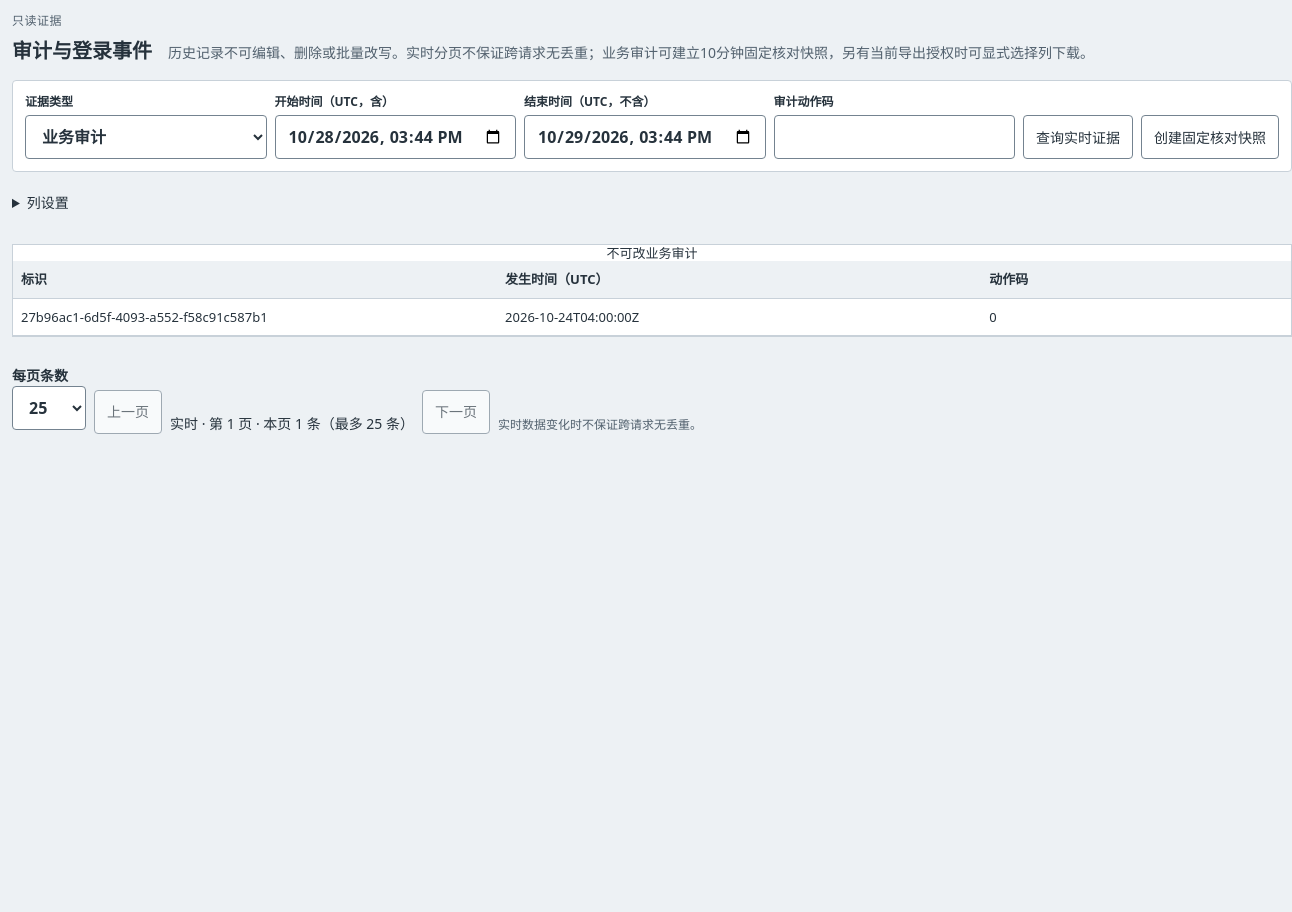
exports only an explicitly created snapshot and checked columns, then revokes its temporary URL
Click the button with test id "create-audit-snapshot" at (1210, 137), box left=1141, top=115, right=1279, bottom=159
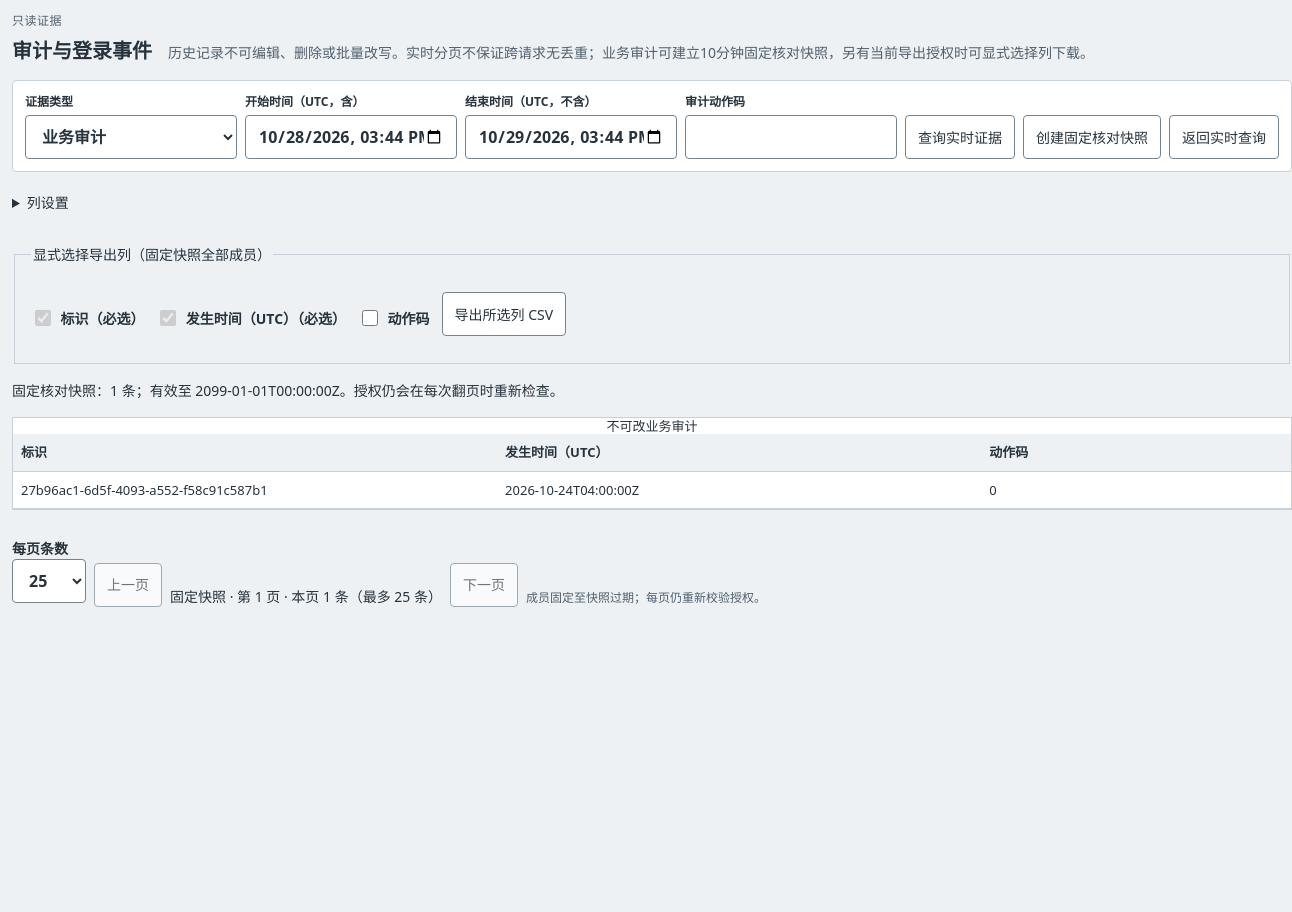
Click the checkbox named "audit-export-column" at (370, 318), box left=362, top=296, right=378, bottom=340
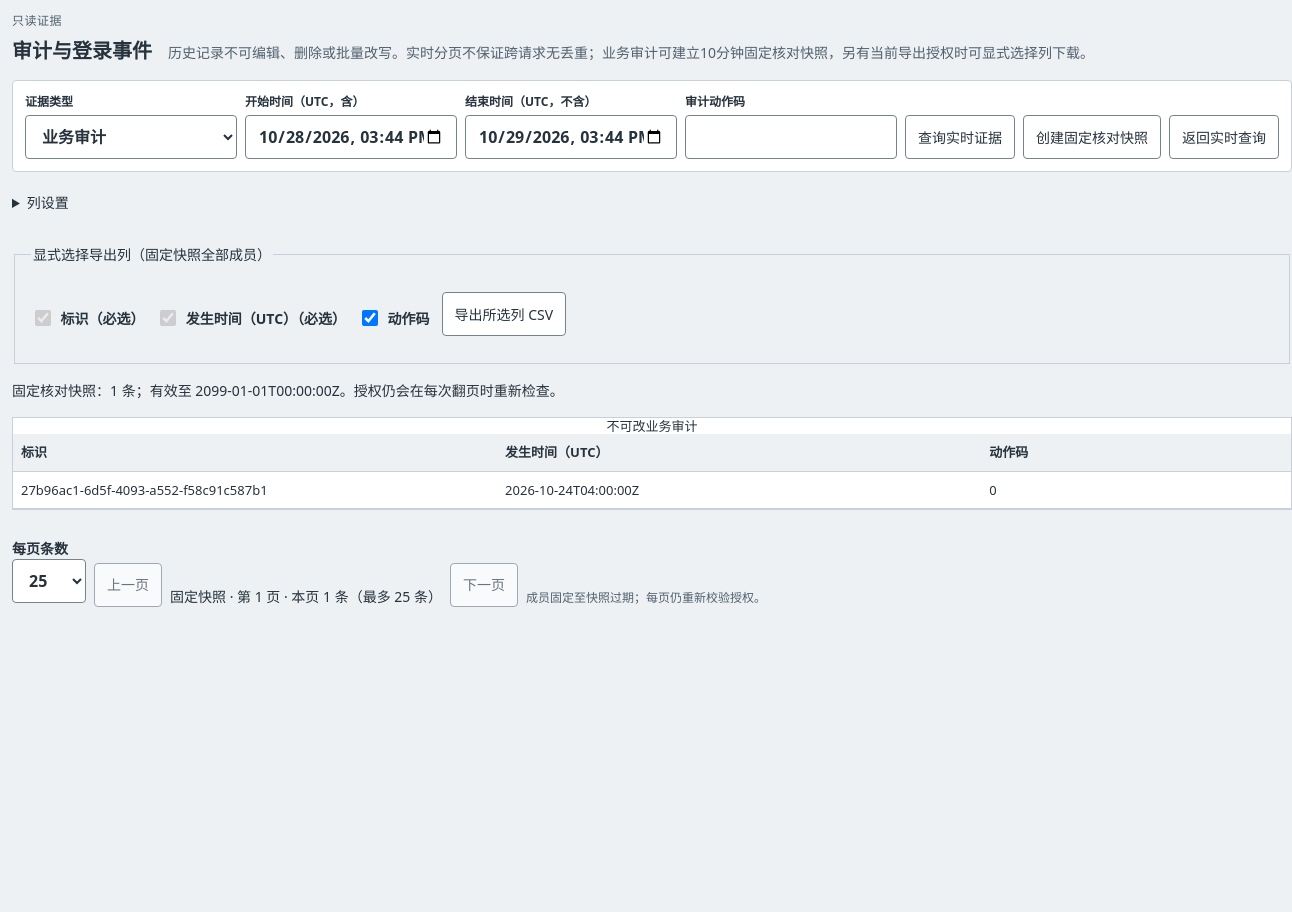
Submit the form named "导出固定审计快照", box left=12, top=244, right=1291, bottom=364
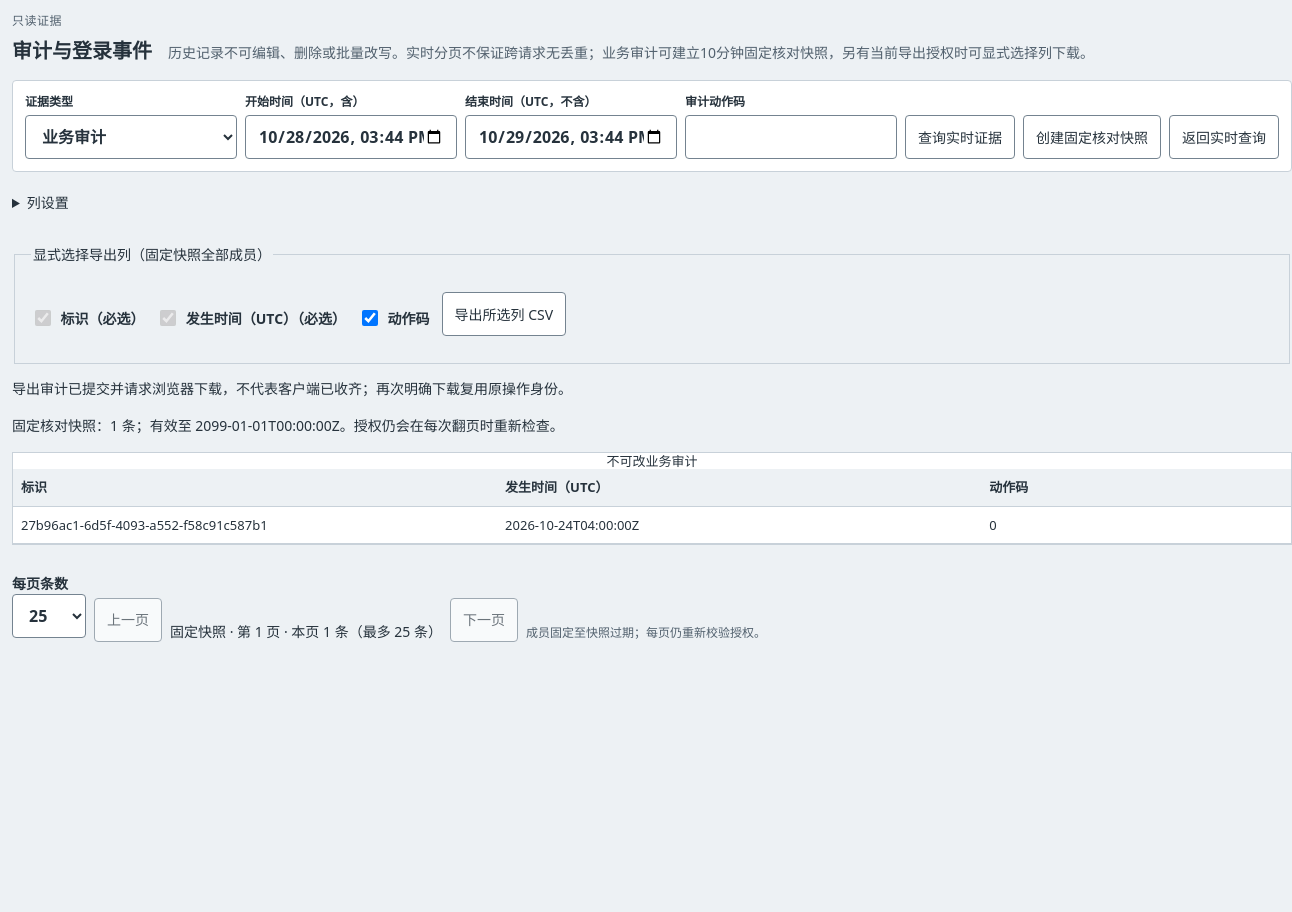
Expected: the text "不代表客户端已收齐" is shown, left=12, top=379, right=572, bottom=398
